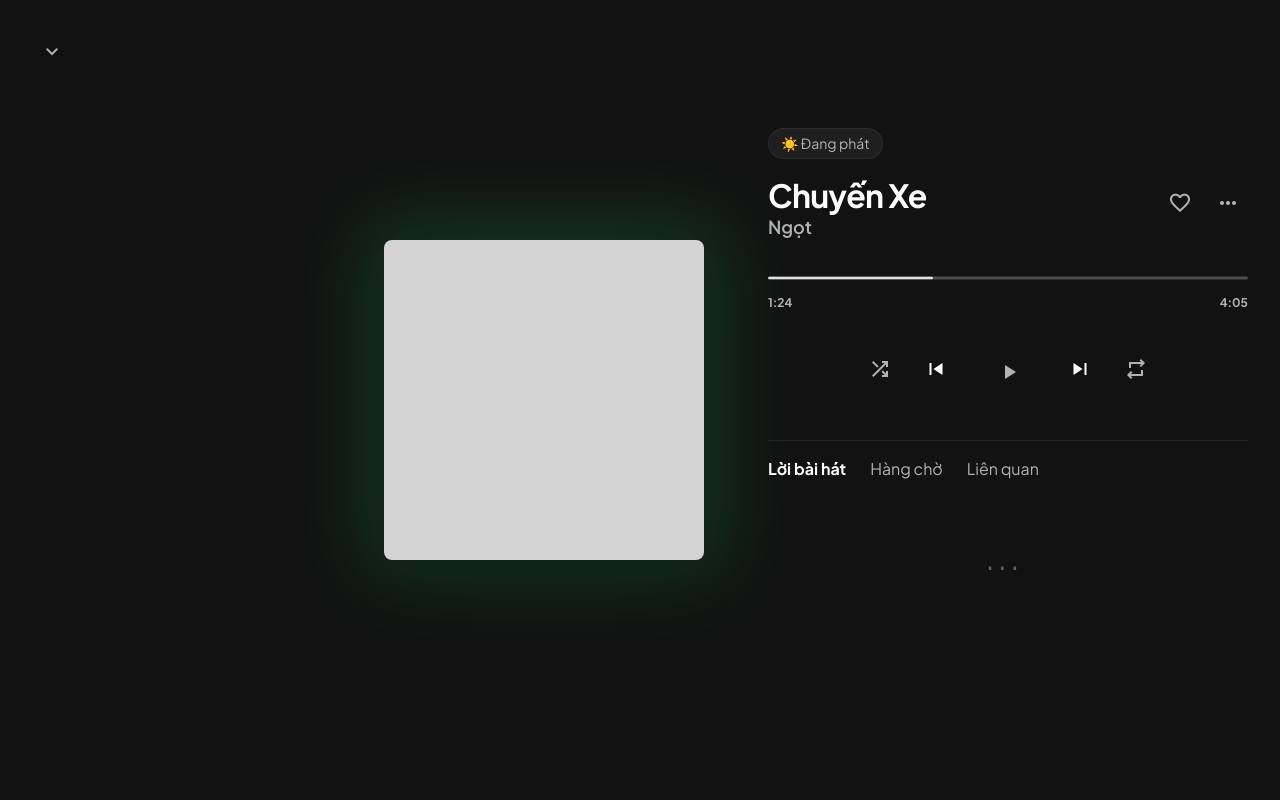
NowPlayingOverlay — tabs › switches to queue tab on click
Click the tab with test id "tab-queue". click: (906, 471)
box: [870,457,943,485]
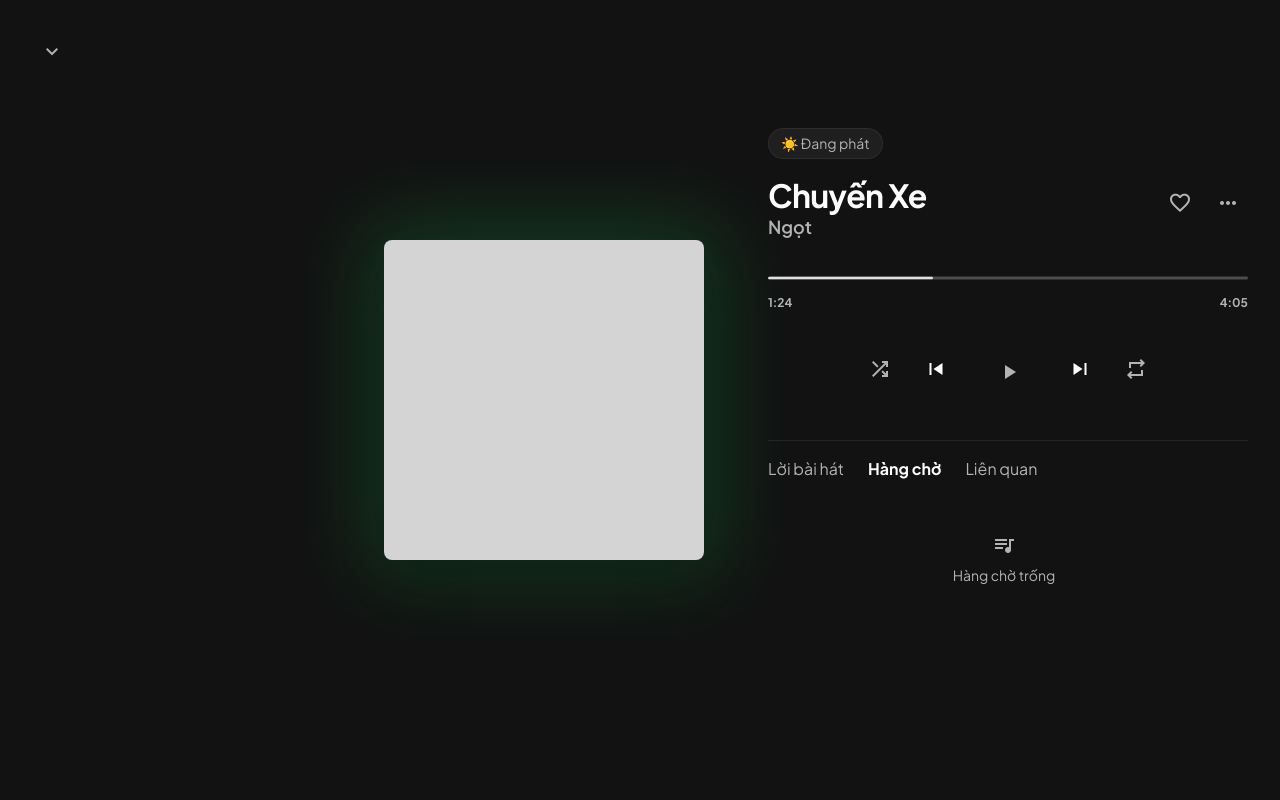
expect the element with test id "tab-content-queue" is shown: met, box [953,531,1055,584]
expect the element with test id "tab-content-lyrics" is gone: met
